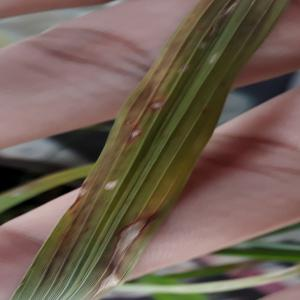1 RiceBlast: (99, 205, 177, 271), (127, 90, 165, 121), (116, 114, 150, 147), (97, 175, 125, 208), (69, 178, 99, 202)
